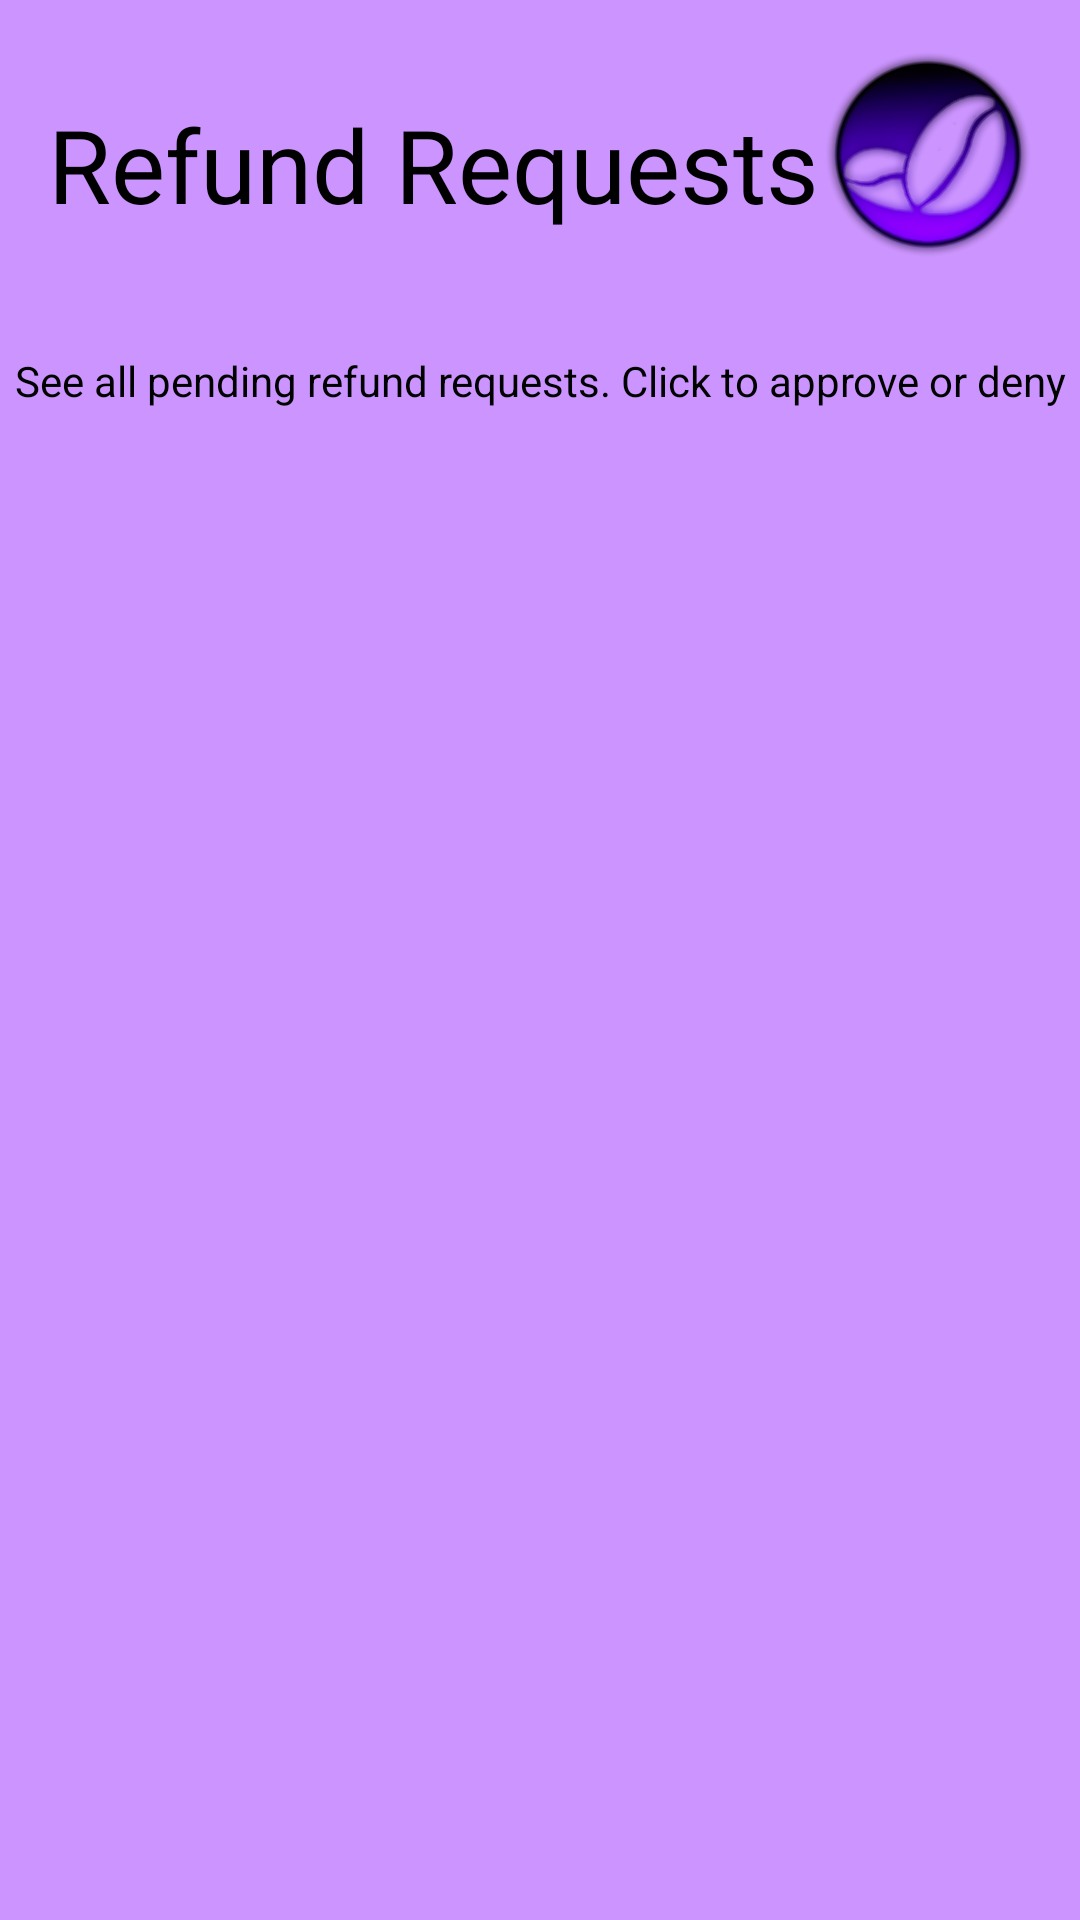

Where icons sit on this 1080×1920 app screen, as (x1, y1, x2, y2):
beanpowered: (829, 56, 1027, 253)
